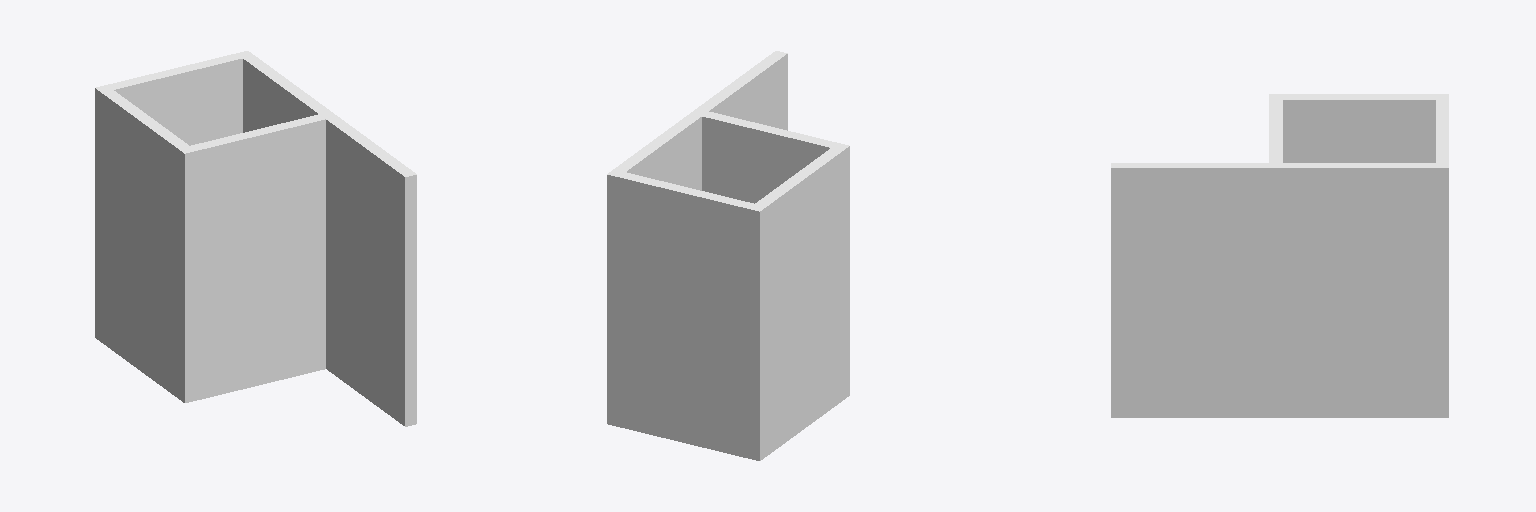
3 renders of one model, left to right at view 1: azimuth 30°, elevation 25°; view 2: azimuth 150°, elevation 25°; view 3: azimuth 270°, elevation 25°, orthographic.
Visible parts, largest first — view 1: wall_4_22, wall_2_10, wall_3_16, wall_1_4, wall_2_9, wall_2_11, wall_2_12; view 2: wall_1_3, wall_3_16, wall_4_21, wall_2_10, wall_2_11, wall_2_12; view 3: wall_2_9, wall_3_15, wall_2_12, wall_2_11.
Boxes of the visible parts, <box> form: wall_4_22: <box>185,119,325,402</box>; wall_2_10: <box>243,59,410,426</box>; wall_3_16: <box>95,88,184,402</box>; wall_1_4: <box>114,59,242,145</box>; wall_2_9: <box>411,175,416,425</box>; wall_2_11: <box>246,51,416,175</box>; wall_2_12: <box>243,54,410,176</box>; wall_1_3: <box>607,175,759,460</box>; wall_3_16: <box>760,146,849,460</box>; wall_4_21: <box>702,117,829,203</box>; wall_2_10: <box>627,54,787,190</box>; wall_2_11: <box>608,51,780,173</box>; wall_2_12: <box>617,52,787,172</box>; wall_2_9: <box>1111,168,1448,417</box>; wall_3_15: <box>1283,100,1435,162</box>; wall_2_12: <box>1111,163,1441,165</box>; wall_2_11: <box>1111,166,1446,167</box>.
Size of the model in its own units: 97.89 by 152 by 187.